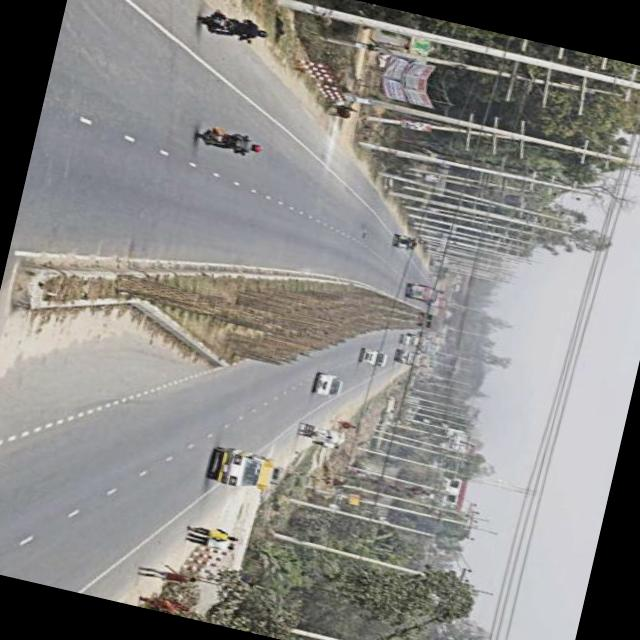bus: (209, 442, 280, 494), (404, 280, 440, 304), (395, 346, 423, 366), (393, 233, 421, 252), (432, 294, 452, 310), (401, 332, 422, 347)
car: (312, 368, 347, 398)
motorcycle: (196, 6, 248, 40), (192, 124, 248, 152)
truck: (360, 344, 391, 368)
